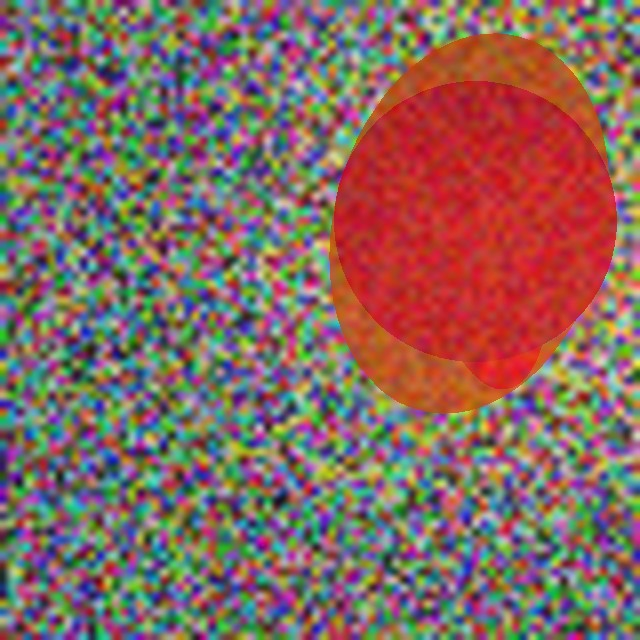fire: (404, 130, 542, 402)
